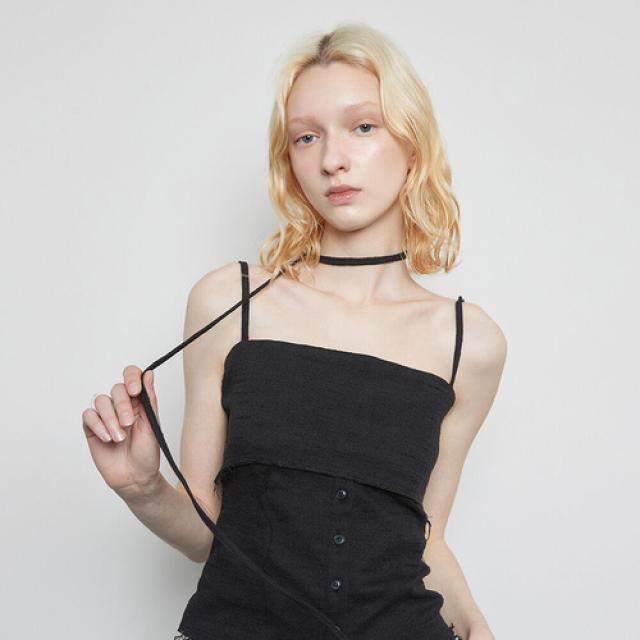Blouse_deep: (88, 236, 522, 638)
